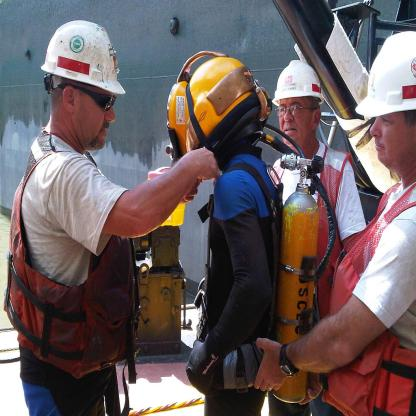Helmet: (165, 51, 264, 166), (42, 19, 126, 96), (354, 30, 416, 118), (271, 58, 325, 106)
